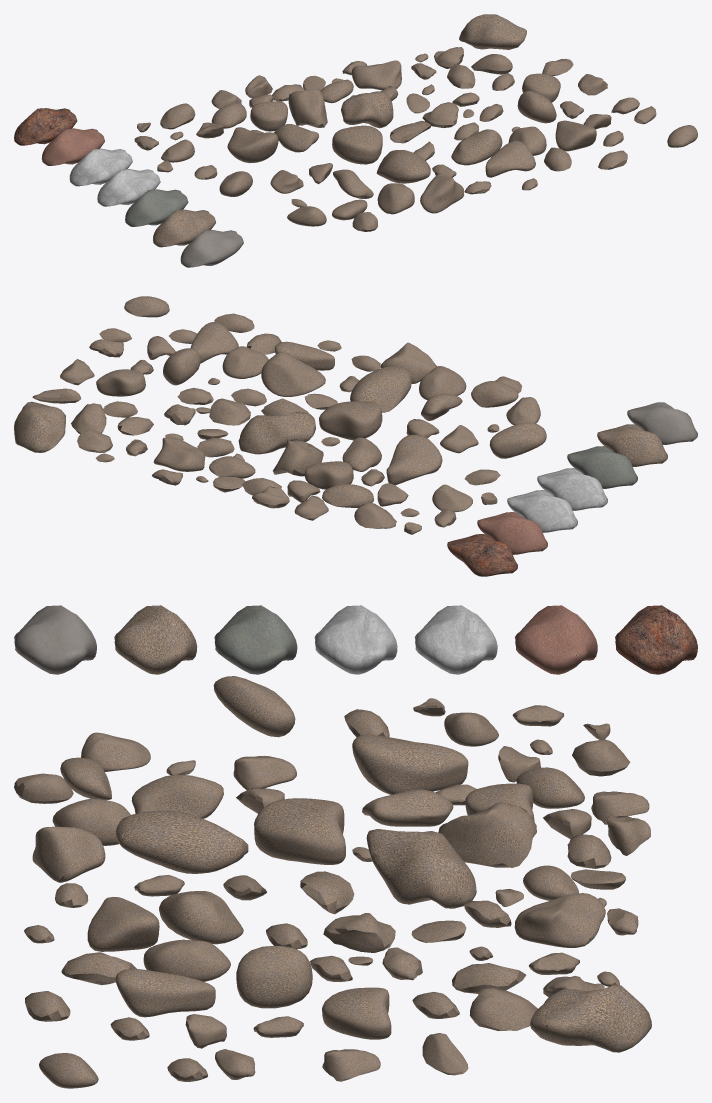
The model's file is GLTF Rocks.gltf.
3 views of the same model, one above another, from view 1: azimuth 30°, elevation 25°; view 2: azimuth 150°, elevation 25°; view 3: azimuth 270°, elevation 25° (orthographic). The views are drawn at different scales.
Visible parts, largest first — view 1: Rock 74, Rock 082, Rock 076, Rock 078, Rock 080, Rock 081, Rock 077, Rock 079, Rock 2, Rock 75, Rock 69, Rock 1 (+32 smaller); view 2: Rock 75, Rock 74, Rock 076, Rock 3, Rock 2, Rock 1, Rock 081, Rock 077, Rock 080, Rock 082, Rock 078, Rock 079 (+43 smaller); view 3: Rock 75, Rock 74, Rock 69, Rock 2, Rock 1, Rock 67, Rock 077, Rock 078, Rock 079, Rock 58, Rock 076, Rock 080 (+53 smaller).
Boxes of the visible parts, x1,y1,x2,y2 form: Rock 74: [459, 14, 526, 49]; Rock 082: [180, 230, 243, 267]; Rock 076: [14, 108, 77, 145]; Rock 078: [69, 148, 132, 186]; Rock 080: [125, 189, 188, 226]; Rock 081: [153, 209, 215, 247]; Rock 077: [41, 128, 104, 165]; Rock 079: [97, 169, 160, 206]; Rock 2: [332, 125, 382, 164]; Rock 75: [341, 91, 393, 128]; Rock 69: [376, 150, 430, 183]; Rock 1: [227, 127, 278, 163]; Rock 75: [238, 411, 315, 454]; Rock 74: [14, 401, 65, 452]; Rock 076: [447, 534, 517, 576]; Rock 3: [261, 352, 325, 396]; Rock 2: [319, 401, 382, 440]; Rock 1: [386, 434, 442, 485]; Rock 081: [597, 424, 667, 466]; Rock 077: [477, 512, 547, 554]; Rock 080: [567, 446, 637, 488]; Rock 082: [627, 402, 697, 444]; Rock 078: [507, 490, 577, 532]; Rock 079: [537, 468, 607, 510]; Rock 75: [366, 829, 476, 908]; Rock 74: [530, 985, 651, 1052]; Rock 69: [115, 810, 248, 873]; Rock 2: [254, 798, 345, 864]; Rock 1: [352, 734, 468, 794]; Rock 67: [438, 802, 536, 867]; Rock 077: [515, 605, 597, 674]; Rock 078: [414, 605, 497, 674]; Rock 079: [314, 605, 397, 674]; Rock 58: [236, 946, 312, 1008]; Rock 076: [615, 605, 697, 674]; Rock 080: [214, 605, 297, 674].
Size of what is drawn, in the model's own units: 8.06 by 0.4725 by 5.08.
7 materials, 7 textured.
